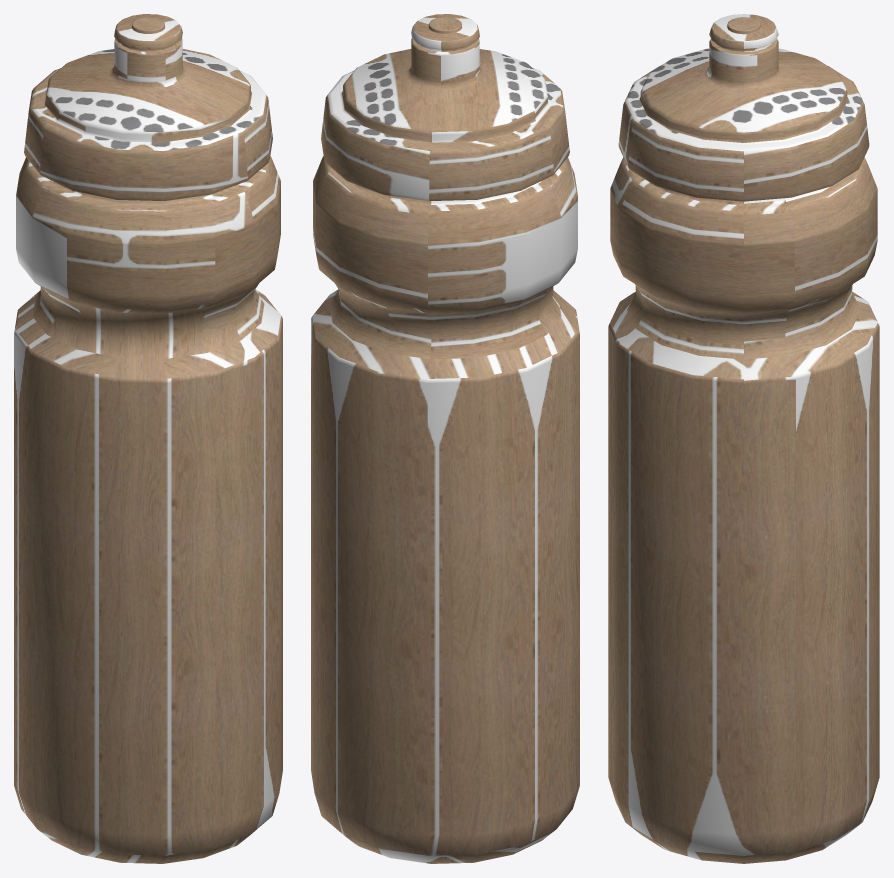
File: bottle.fbx
3 renders of one model, left to right at view 1: azimuth 30°, elevation 25°; view 2: azimuth 150°, elevation 25°; view 3: azimuth 270°, elevation 25°, orthographic.
Parts seen in each view (by area): view 1: bottle:Mesh; view 2: bottle:Mesh; view 3: bottle:Mesh.
Boxes of the visible parts, box(x1,y1,x2,y2) form: bottle:Mesh: box(14, 14, 282, 863); bottle:Mesh: box(311, 14, 579, 863); bottle:Mesh: box(608, 14, 879, 863).
Bounding box in the file's own units: 11.7 × 37.8 × 11.7.
